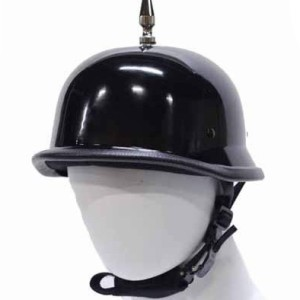with_helmet: (29, 38, 275, 201)
